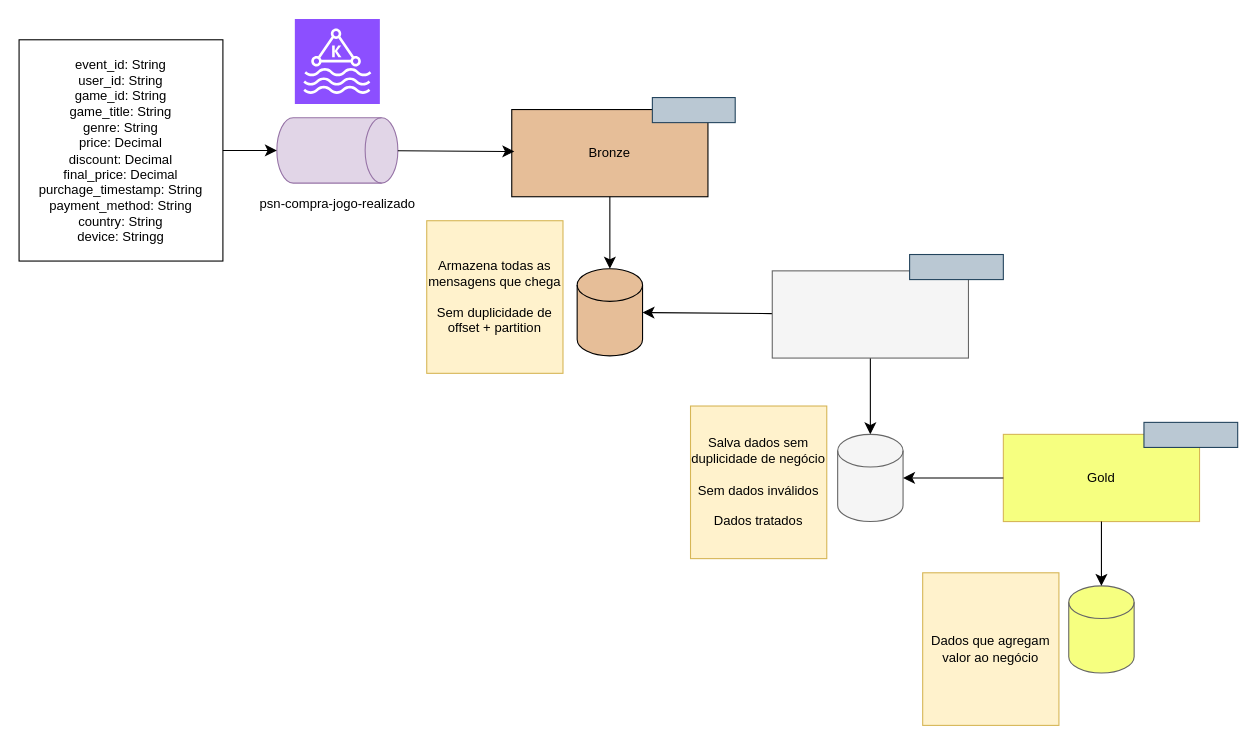
Image size: 1257x744. Some labels were removed from this diagram. Here are the shapes that lost their labels. From the top down, the centre of each, then its label:
At (693,109): "Dado bruto".
At (956,266): "Dado confiável".
At (869,314): "Silver".
At (1190,434): "Dado de valor".
